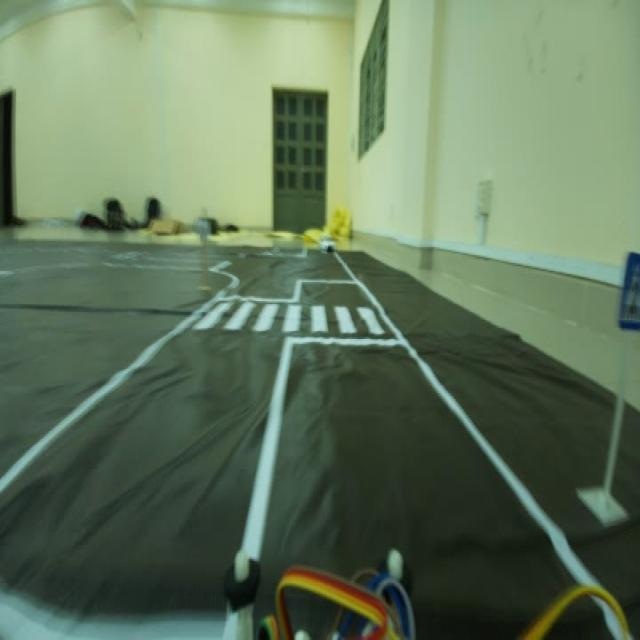crosswalk: (617, 242, 640, 342)
